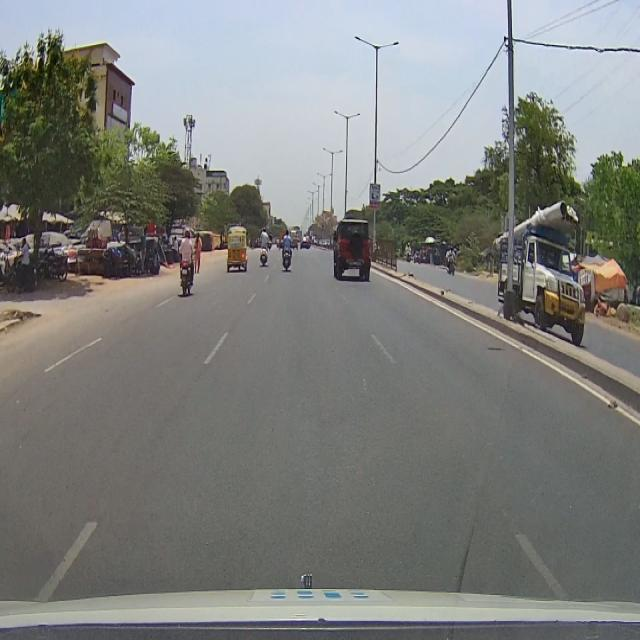auto ahead at: (225, 221, 252, 283)
car ahead at: (336, 212, 370, 283)
motorcycle ahead at: (175, 258, 202, 304)
